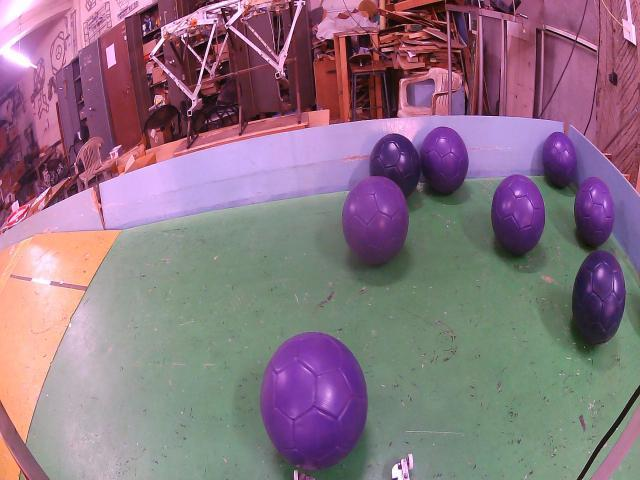jambhalya: (260, 332, 368, 470), (342, 177, 409, 265), (491, 175, 545, 255), (420, 127, 469, 193), (574, 177, 615, 247), (542, 132, 578, 188)
kaalyya: (572, 250, 626, 345), (370, 133, 421, 197)
